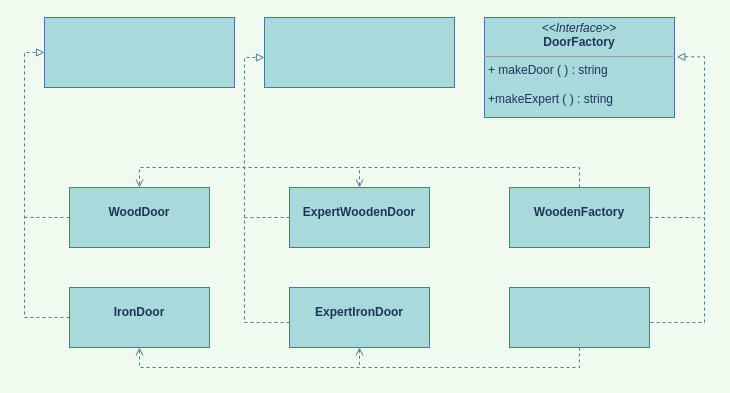
The diagram is 730 pixels wide and 393 high, and some of its shapes have lost their labels. Each missing label, with the box of its shape:
<<Interface>> Door + DoorInfo ( ) : string: (44, 16, 234, 88)
<<Interface>> DoorExpert + ExpertInfo ( ) : string: (264, 16, 454, 88)
IronFactory: (508, 286, 650, 348)
